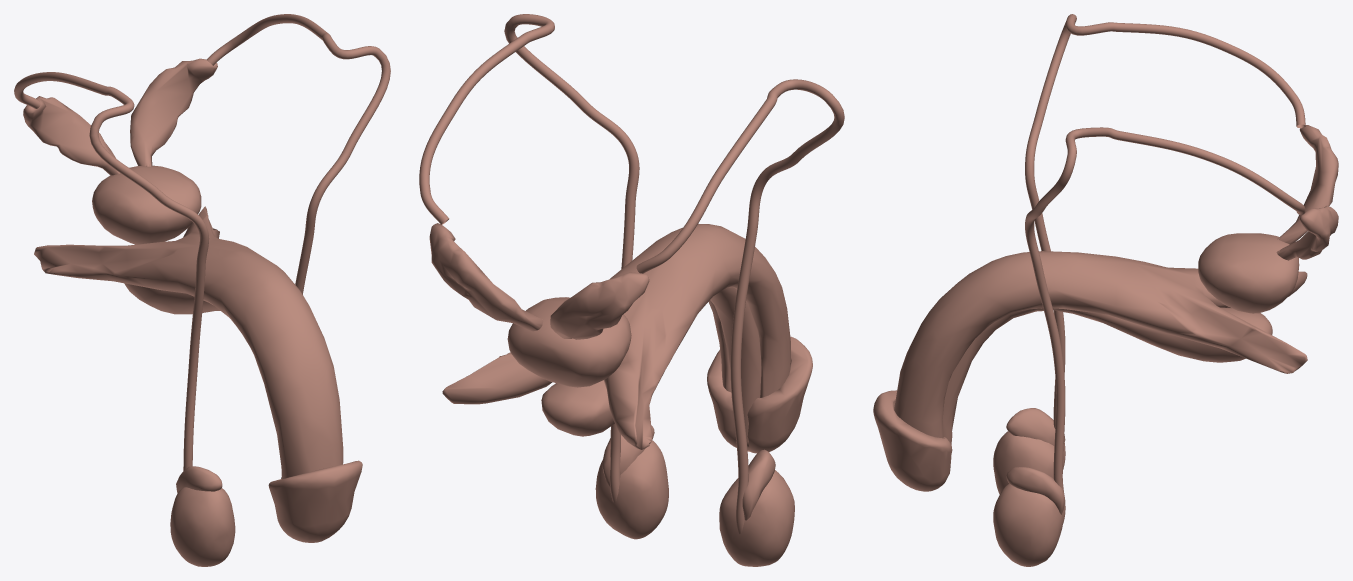
Rendered from detail-reproductive-pelvis.glb.
3 renders of one model, left to right at view 1: azimuth 30°, elevation 25°; view 2: azimuth 150°, elevation 25°; view 3: azimuth 270°, elevation 25°, orthographic. The views are drawn at different scales.
Visible parts, largest first — view 1: za-f26cd1157e551a6a, za-0fa320e13ac298d5, za-7f6af3c2a00c2ff2, za-29295a3c5ede2af3, za-dcfc5b0847df1672, za-1addc3828282aea8, za-fa6a4ada5e35b202, za-35d0f49c473b179f, za-def8ca9aeb56e5b2, za-d4986d55fb604278; view 2: za-f26cd1157e551a6a, za-7f6af3c2a00c2ff2, za-1addc3828282aea8, za-0fa320e13ac298d5, za-def8ca9aeb56e5b2, za-29295a3c5ede2af3, za-fa6a4ada5e35b202, za-552bf783cd4abfd9, za-dcfc5b0847df1672, za-35d0f49c473b179f, za-d4986d55fb604278, za-20bc2944df8e0cc2; view 3: za-f26cd1157e551a6a, za-0fa320e13ac298d5, za-1addc3828282aea8, za-7f6af3c2a00c2ff2, za-def8ca9aeb56e5b2, za-29295a3c5ede2af3, za-552bf783cd4abfd9, za-35d0f49c473b179f, za-fa6a4ada5e35b202, za-dcfc5b0847df1672, za-20bc2944df8e0cc2, za-d4986d55fb604278.
Boxes of the visible parts, x1,y1,x2,y2 form: za-f26cd1157e551a6a: [34, 206, 343, 479]; za-0fa320e13ac298d5: [92, 165, 201, 244]; za-7f6af3c2a00c2ff2: [14, 72, 209, 470]; za-29295a3c5ede2af3: [268, 460, 362, 542]; za-dcfc5b0847df1672: [130, 58, 217, 166]; za-1addc3828282aea8: [206, 14, 390, 294]; za-fa6a4ada5e35b202: [170, 487, 235, 566]; za-35d0f49c473b179f: [23, 96, 119, 175]; za-def8ca9aeb56e5b2: [124, 283, 220, 314]; za-d4986d55fb604278: [176, 466, 222, 493]; za-f26cd1157e551a6a: [442, 223, 790, 449]; za-7f6af3c2a00c2ff2: [636, 79, 844, 533]; za-1addc3828282aea8: [419, 14, 639, 503]; za-0fa320e13ac298d5: [507, 297, 631, 387]; za-def8ca9aeb56e5b2: [541, 287, 761, 447]; za-29295a3c5ede2af3: [707, 336, 812, 453]; za-fa6a4ada5e35b202: [719, 470, 794, 566]; za-552bf783cd4abfd9: [595, 440, 668, 539]; za-dcfc5b0847df1672: [429, 223, 543, 331]; za-35d0f49c473b179f: [550, 272, 649, 339]; za-d4986d55fb604278: [742, 449, 775, 520]; za-20bc2944df8e0cc2: [602, 425, 654, 486]; za-f26cd1157e551a6a: [894, 251, 1307, 438]; za-0fa320e13ac298d5: [1198, 233, 1299, 313]; za-1addc3828282aea8: [1025, 127, 1305, 524]; za-7f6af3c2a00c2ff2: [1025, 14, 1305, 469]; za-def8ca9aeb56e5b2: [942, 307, 1272, 474]; za-29295a3c5ede2af3: [873, 390, 952, 491]; za-552bf783cd4abfd9: [993, 483, 1062, 566]; za-35d0f49c473b179f: [1279, 125, 1338, 244]; za-fa6a4ada5e35b202: [993, 431, 1063, 494]; za-dcfc5b0847df1672: [1277, 206, 1338, 260]; za-20bc2944df8e0cc2: [1006, 467, 1065, 514]; za-d4986d55fb604278: [1006, 408, 1065, 445].
Bounding box in the file's own units: 0.1123 × 0.1654 × 0.151.
